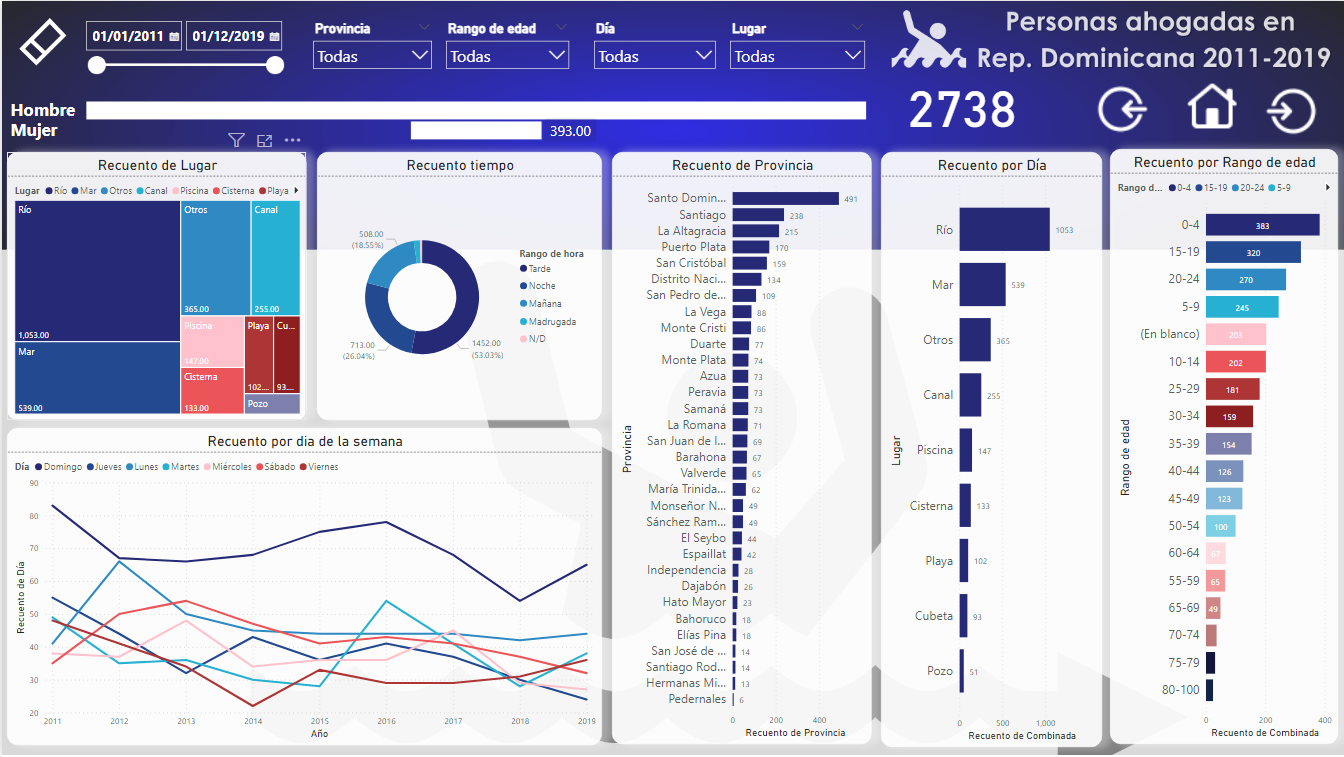

This screenshot's page, from the dashboard's own definition file:
{"tool":"powerbi","page":{"name":"Pagina secundaria","canvas":[1920,1080],"ordinal":1},"visuals":[{"type":"clusteredBarChart","title":"Recuento por Día","fields":{"Category":["Ahogados.Lugar"],"Y":["CountNonNull(Ahogados.Combinada Jerarquía.Combinada)"]},"box":[1255.7,215.7,315.7,850],"z":0},{"type":"barChart","title":"Recuento  por Rango de edad","fields":{"Category":["Ahogados.Rango de edad"],"Y":["CountNonNull(Ahogados.Combinada Jerarquía.Combinada)"],"Series":["Ahogados.Rango de edad"]},"box":[1582.9,211.4,325.7,850],"z":1000},{"type":"donutChart","title":"Recuento tiempo","fields":{"Category":["Ahogados.Rango de hora"],"Y":["CountNonNull(Ahogados.Rango de hora)"]},"box":[449.9,215.9,407.3,382.7],"z":2000},{"type":"slicer","fields":{"Values":["Ahogados.Combinada"]},"box":[107.1,18.6,304.3,91.4],"z":3000},{"type":"lineChart","title":"Recuento por dia de la semana","fields":{"Category":["Ahogados.Combinada.Variación.Jerarquía de fechas.Año"],"Y":["CountNonNull(Ahogados.Día)"],"Series":["Ahogados.Día"]},"box":[7.1,610,850,452.9],"z":4000},{"type":"actionButton","box":[20,14.3,77.1,88.6],"z":5000},{"type":"image","box":[1671.8,102.1,115.1,103.4],"z":6000},{"type":"image","box":[1538.6,103.4,118.9,103.4],"z":7000},{"type":"image","box":[1786.8,103.4,103.4,108.6],"z":8000},{"type":"treemap","title":"Recuento de Lugar","fields":{"Group":["Ahogados.Lugar"],"Values":["CountNonNull(Ahogados.Lugar)"]},"box":[6.5,215.9,428,382.7],"z":9000},{"type":"funnel","fields":{"Category":["Ahogados.Sexo"],"Y":["CountNonNull(Ahogados.Sexo)"]},"box":[7.8,135.8,1237.3,69.8],"z":10000},{"type":"clusteredBarChart","title":"Recuento de Provincia","fields":{"Category":["Ahogados.Provincia"],"Y":["CountNonNull(Ahogados.Provincia)"]},"box":[871.4,215.7,371.4,845.7],"z":11000},{"type":"card","fields":{"Values":["CountNonNull(Ahogados.Sexo)"]},"box":[1221.8,102.1,300,85.3],"z":12000},{"type":"slicer","fields":{"Values":["Ahogados.Lugar"]},"box":[1030,22.9,212.9,85.7],"z":13000},{"type":"slicer","fields":{"Values":["Ahogados.Provincia"]},"box":[434.3,22.9,190,85.7],"z":14000},{"type":"slicer","fields":{"Values":["Ahogados.Rango de edad"]},"box":[624.3,22.9,195.7,85.7],"z":15000},{"type":"slicer","fields":{"Values":["Ahogados.Día"]},"box":[835.7,22.9,194.3,85.7],"z":16000}]}

Visuals, with their boxes in screenshot pixels (x1, y1, x2, y2), scaled from the page's 1920x1080 canvas onto the 1344x757 screenshot:
"Recuento por Día" clusteredBarChart: [879, 151, 1100, 747]
"Recuento  por Rango de edad" barChart: [1108, 148, 1336, 744]
"Recuento tiempo" donutChart: [315, 151, 600, 420]
slicer - Ahogados.Combinada: [75, 13, 288, 77]
"Recuento por dia de la semana" lineChart: [5, 428, 600, 745]
actionButton: [14, 10, 68, 72]
image: [1170, 72, 1251, 144]
image: [1077, 72, 1160, 145]
image: [1251, 72, 1323, 149]
"Recuento de Lugar" treemap: [5, 151, 304, 420]
funnel - Ahogados.Sexo x CountNonNull(Ahogados.Sexo): [5, 95, 872, 144]
"Recuento de Provincia" clusteredBarChart: [610, 151, 870, 744]
card - CountNonNull(Ahogados.Sexo): [855, 72, 1065, 131]
slicer - Ahogados.Lugar: [721, 16, 870, 76]
slicer - Ahogados.Provincia: [304, 16, 437, 76]
slicer - Ahogados.Rango de edad: [437, 16, 574, 76]
slicer - Ahogados.Día: [585, 16, 721, 76]
